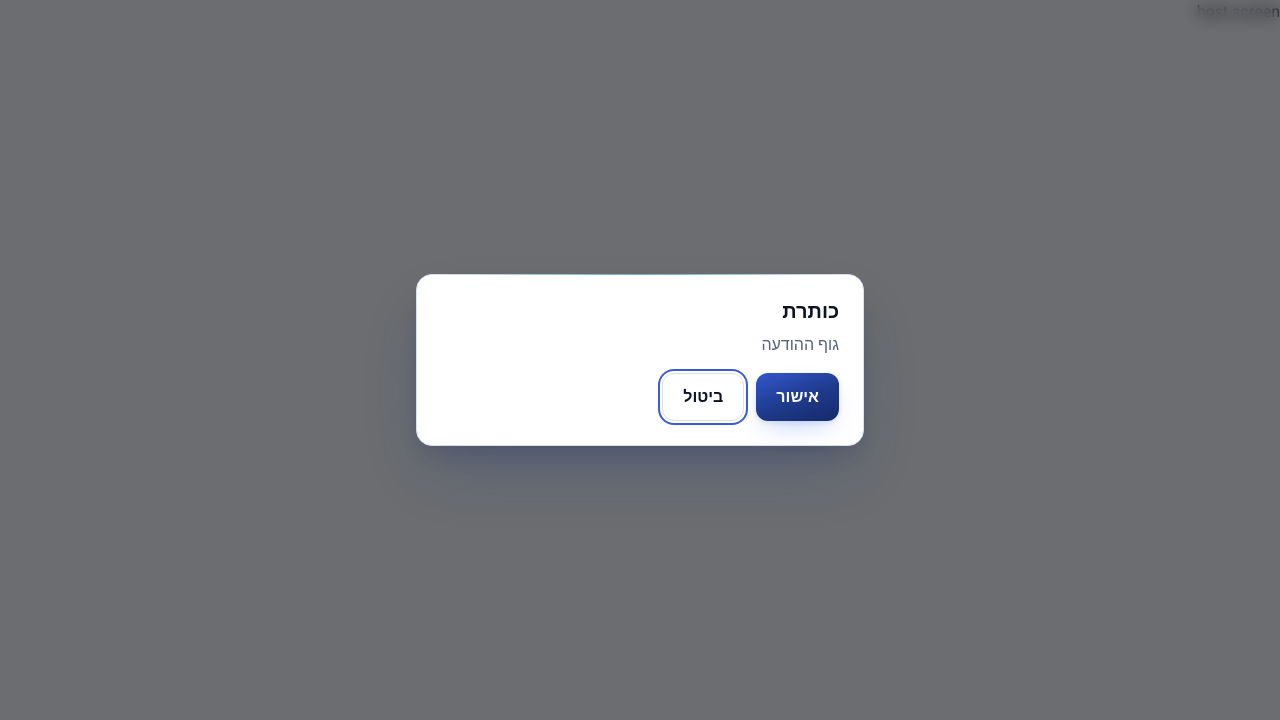
ConfirmDialog › cancel closes the dialog and does nothing else
Expected: the dialog is shown, [416,274,864,446]
Click the button "ביטול".
click(703, 397)  # box [662,373,744,421]
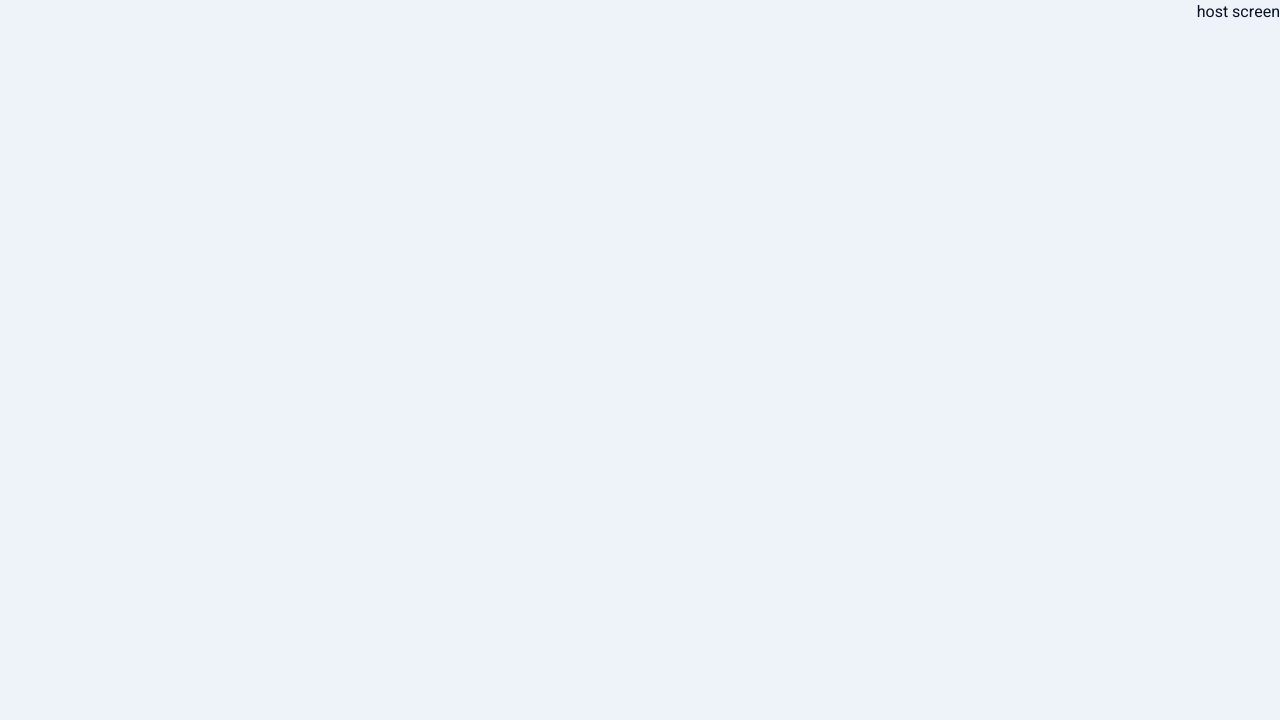
Expected: the text "host screen" is shown, [1197,0,1279,24]
Now the dialog is gone
